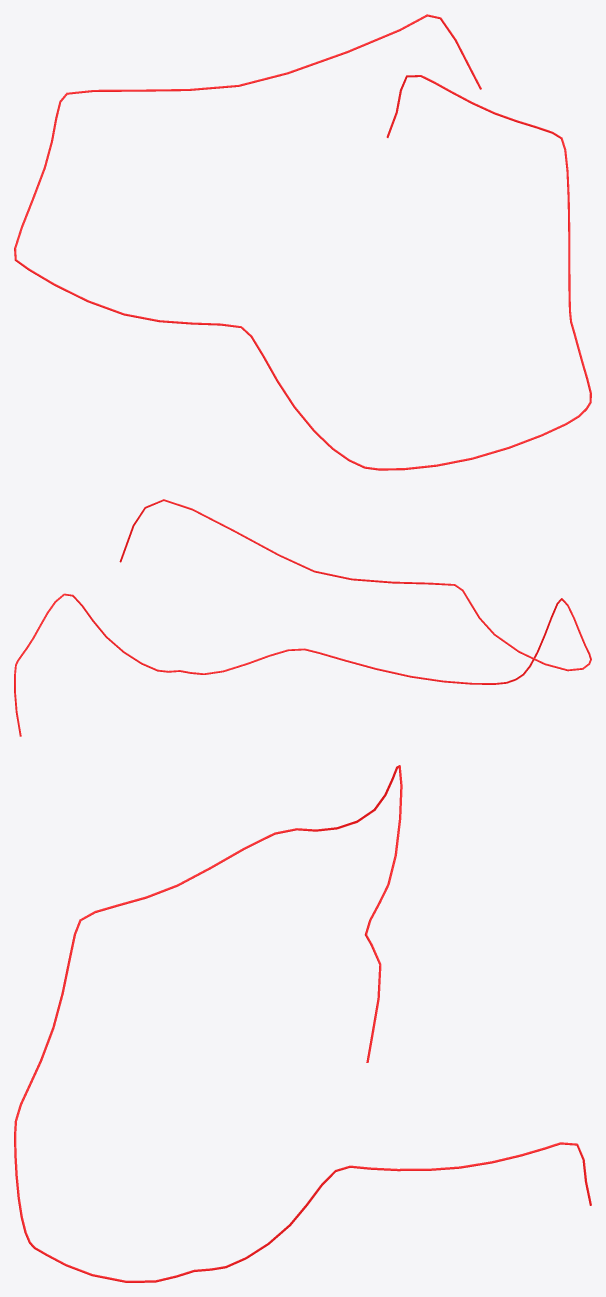
File: m_Rope04.fbx
3 renders of one model, top to bottom at view 1: azimuth 30°, elevation 25°; view 2: azimuth 150°, elevation 25°; view 3: azimuth 270°, elevation 25°, orthographic. The views are drawn at different scales.
Parts seen in each view (by area): view 1: m_Rope04; view 2: m_Rope04; view 3: m_Rope04.
Part boxes in pixels (x1,y1,x2,y2): m_Rope04: [14, 14, 591, 470]; m_Rope04: [14, 499, 591, 736]; m_Rope04: [14, 765, 591, 1282].
Size of the model in its own units: 1819 by 898 by 1480.
